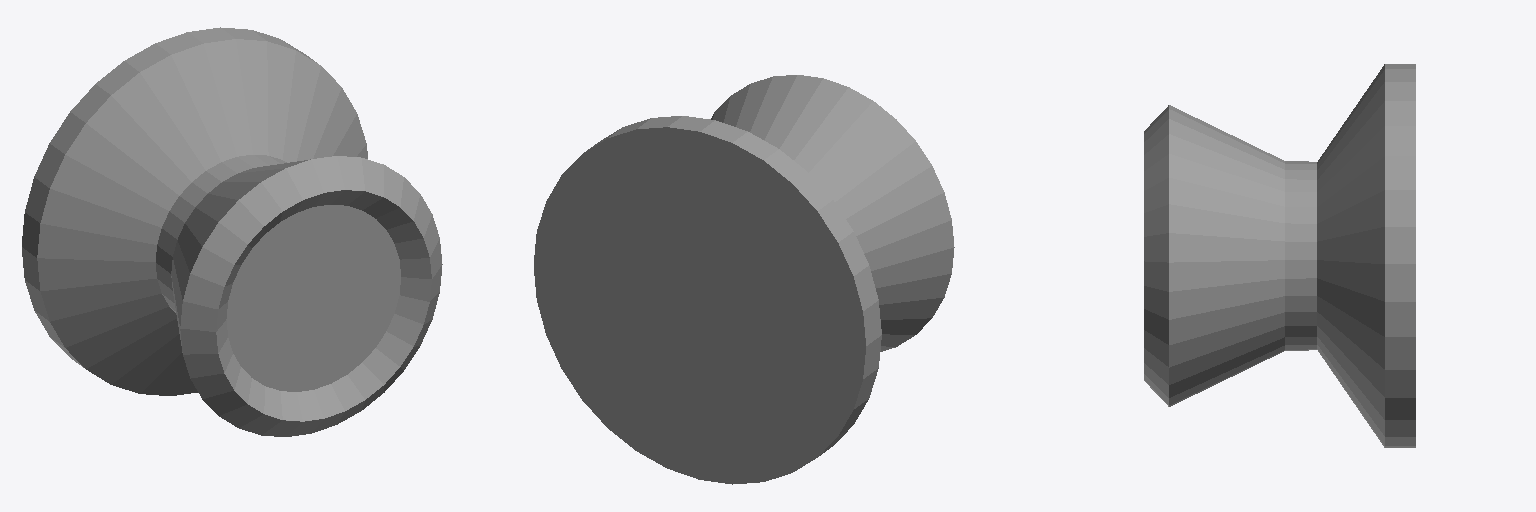
File: doorhandle.obj
3 views of the same model, side by side, from view 1: azimuth 30°, elevation 25°; view 2: azimuth 150°, elevation 25°; view 3: azimuth 270°, elevation 25° (orthographic).
Visible parts, largest first — view 1: Cube; view 2: Cube; view 3: Cube.
Part boxes in pixels (x1,y1,x2,y2): Cube: (22, 27, 442, 436); Cube: (534, 75, 954, 484); Cube: (1144, 64, 1415, 447).
Bounding box in the file's own units: 2 × 2 × 1.42.